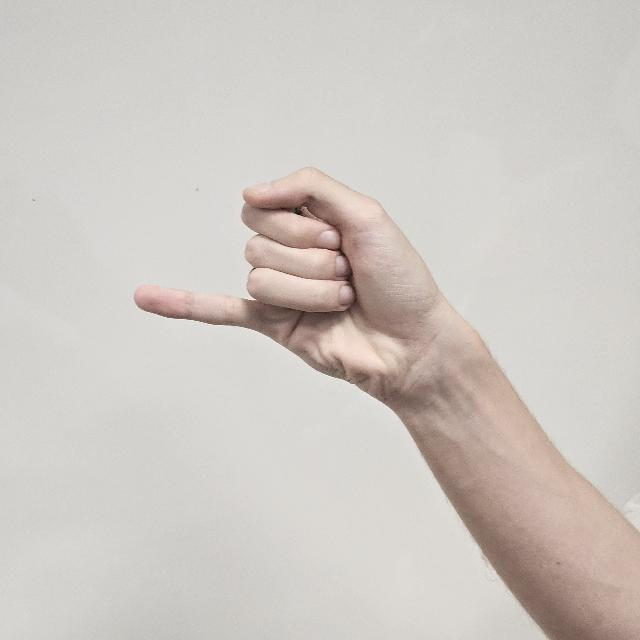Esquerda: (136, 146, 448, 434)
